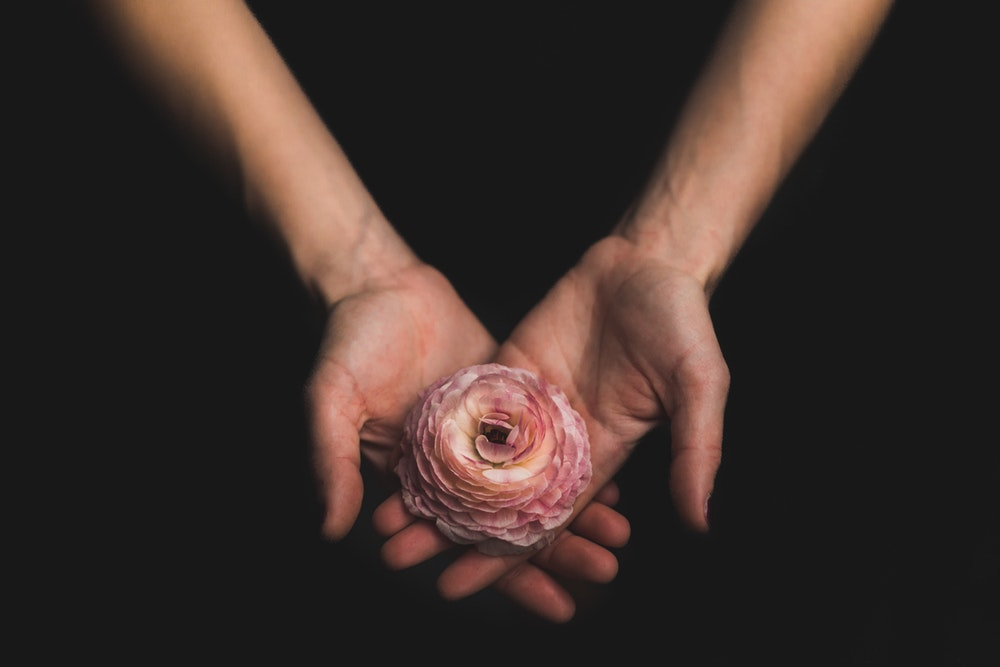palm: (524, 267, 684, 480), (349, 274, 497, 443)
